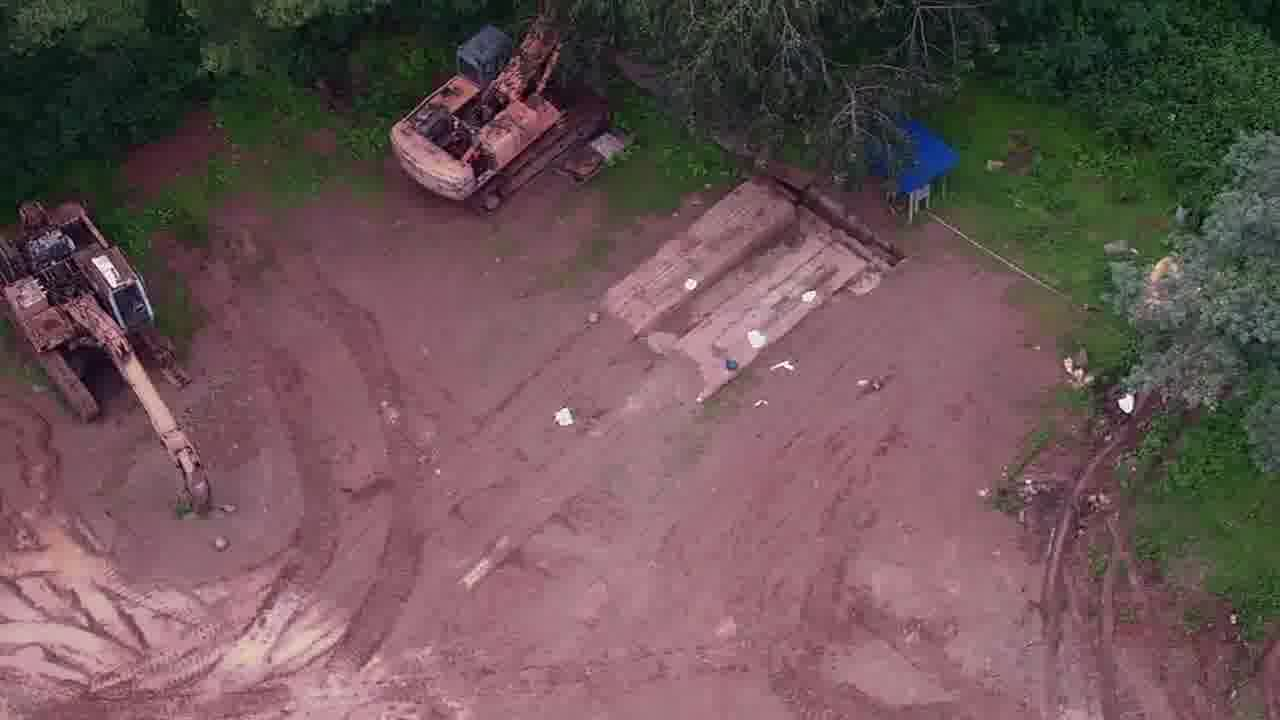HMV: (1, 195, 212, 503), (386, 3, 576, 217)
